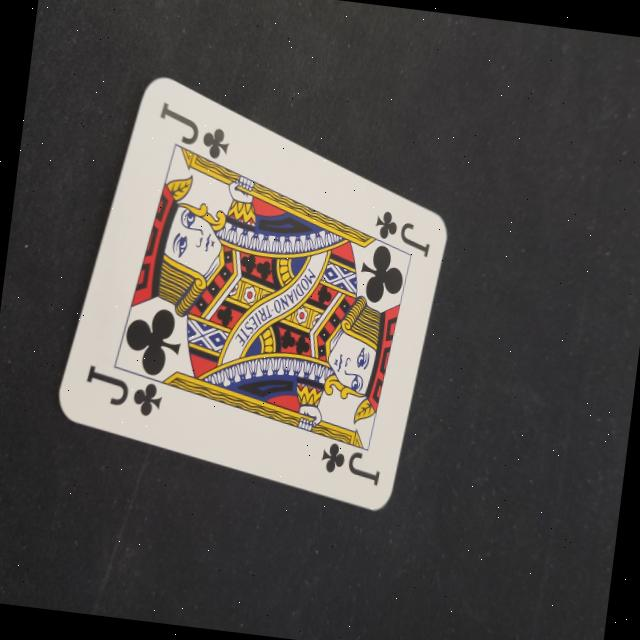Jc: (68, 354, 172, 428), (141, 95, 239, 173), (360, 198, 440, 266), (307, 436, 388, 499)
